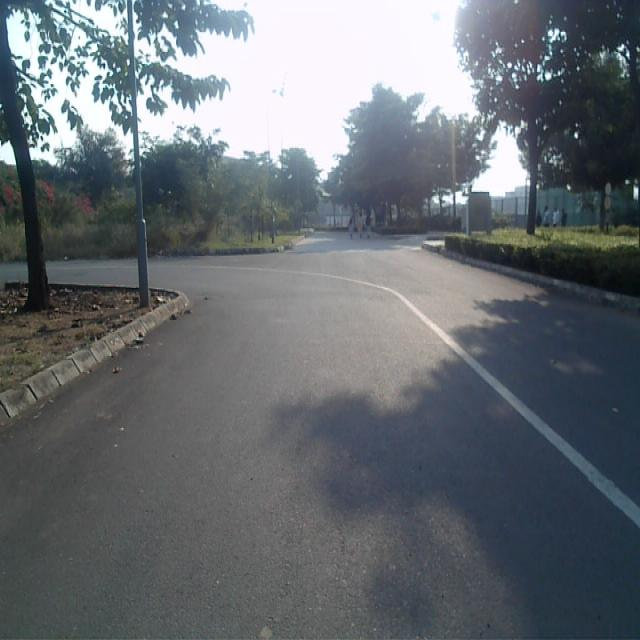lane: (0, 271, 640, 640)
